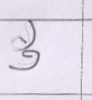u_matra: (12, 50, 42, 72)
